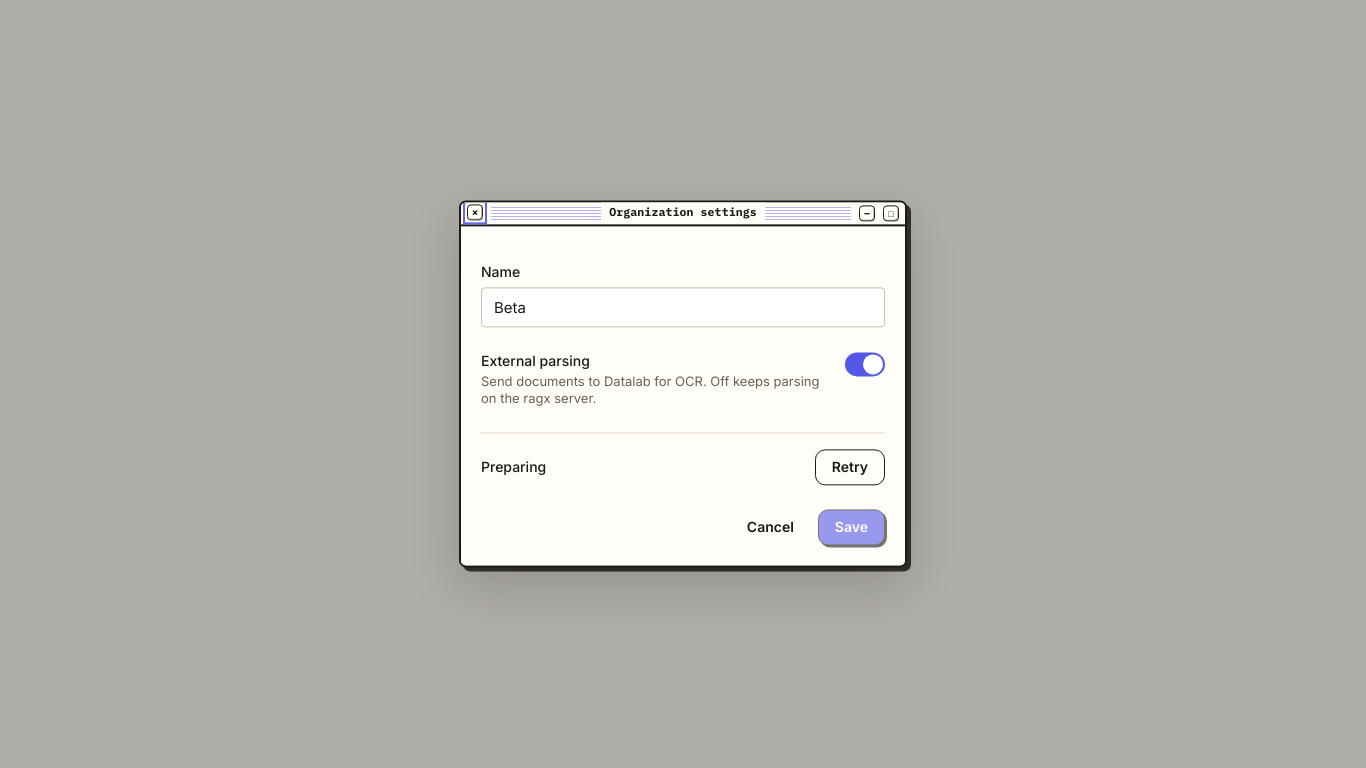
Test: OrgDialog settings › does not claim success when the retry comes back not ready
Click the button "Retry" at (850, 468), box [815,450,885,486]
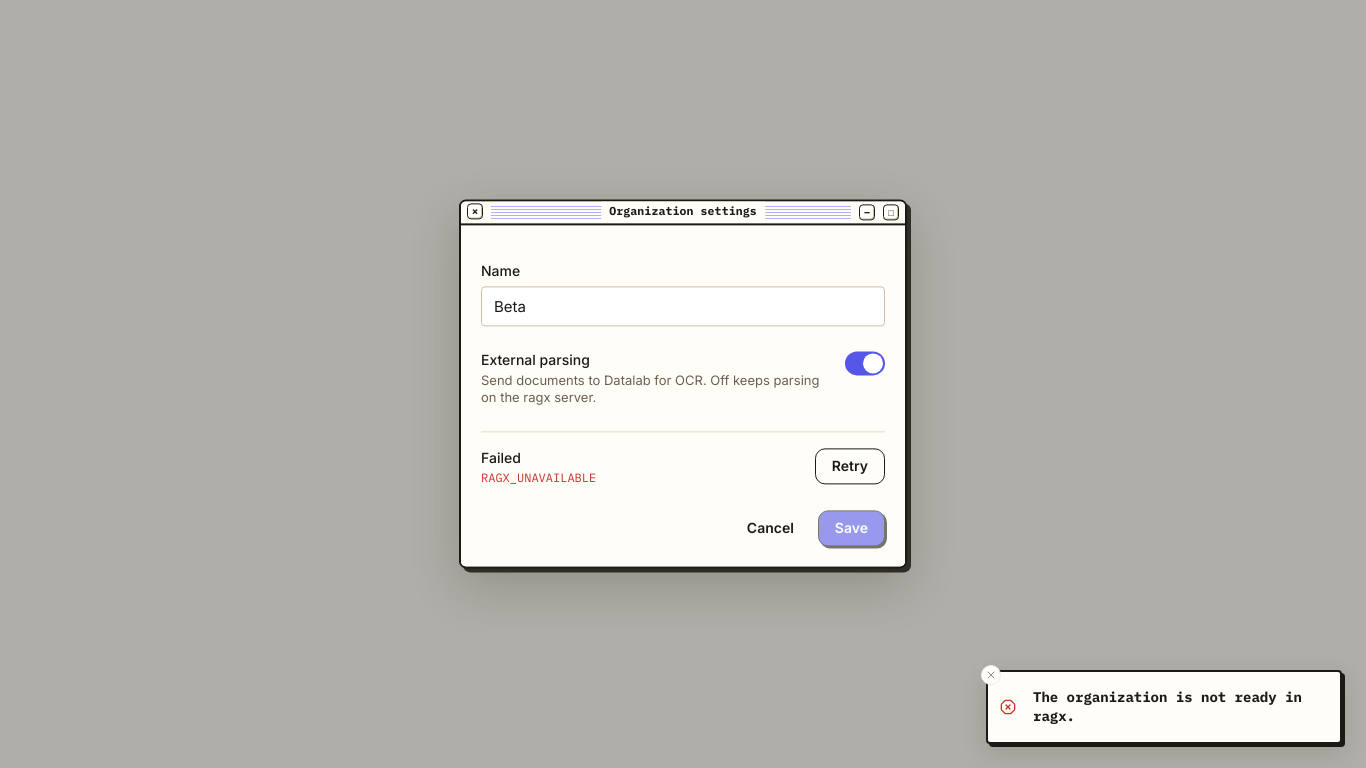
Check: the message "The organization is not ready in ragx." is shown, box [1033,688,1324,726]
